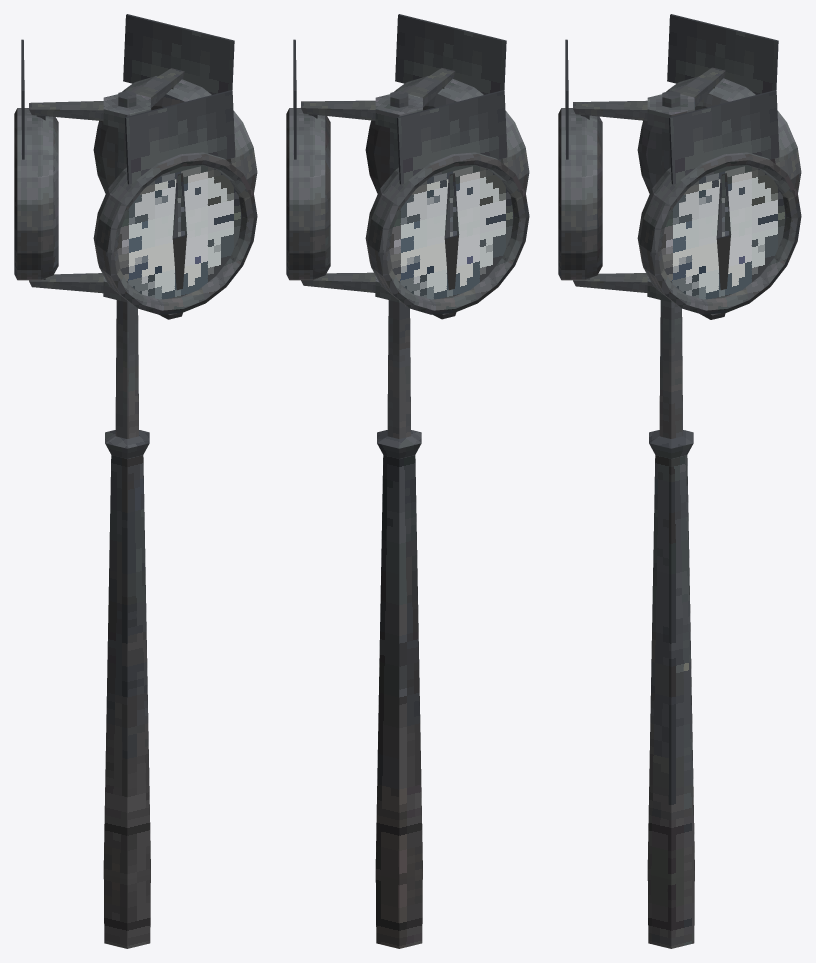
Rendered from streetclock.obj.
3 renders of one model, left to right at view 1: azimuth 30°, elevation 25°; view 2: azimuth 150°, elevation 25°; view 3: azimuth 270°, elevation 25°, orthographic.
Parts seen in each view (by area): view 1: streetclock; view 2: streetclock; view 3: streetclock.
Part boxes in pixels (x1=…): streetclock: x1=14, y1=14, x2=257, y2=948; streetclock: x1=286, y1=14, x2=529, y2=948; streetclock: x1=558, y1=14, x2=801, y2=948.
Bounding box in the file's own units: 1.35 × 4.7 × 1.19.
Materials: 1 (1 with a texture image).
